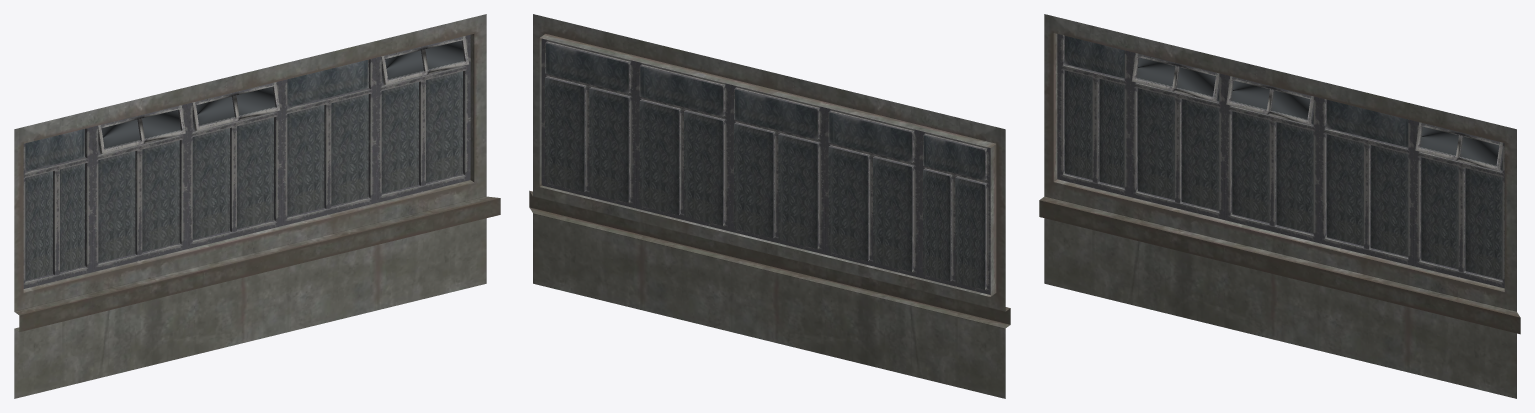
File: sm_floor_two_r.glb
3 views of the same model, side by side, from view 1: azimuth 30°, elevation 25°; view 2: azimuth 150°, elevation 25°; view 3: azimuth 330°, elevation 25° (orthographic).
Parts seen in each view (by area): view 1: sm_floor_two_r; view 2: sm_floor_two_r; view 3: sm_floor_two_r.
Boxes of the visible parts, x1,y1,x2,y2 form: sm_floor_two_r: (14, 14, 500, 398); sm_floor_two_r: (529, 14, 1010, 398); sm_floor_two_r: (1039, 14, 1520, 398).
Bounding box in the file's own units: 5.09 × 2.73 × 0.2002.
Materials: 2 (2 with a texture image).
